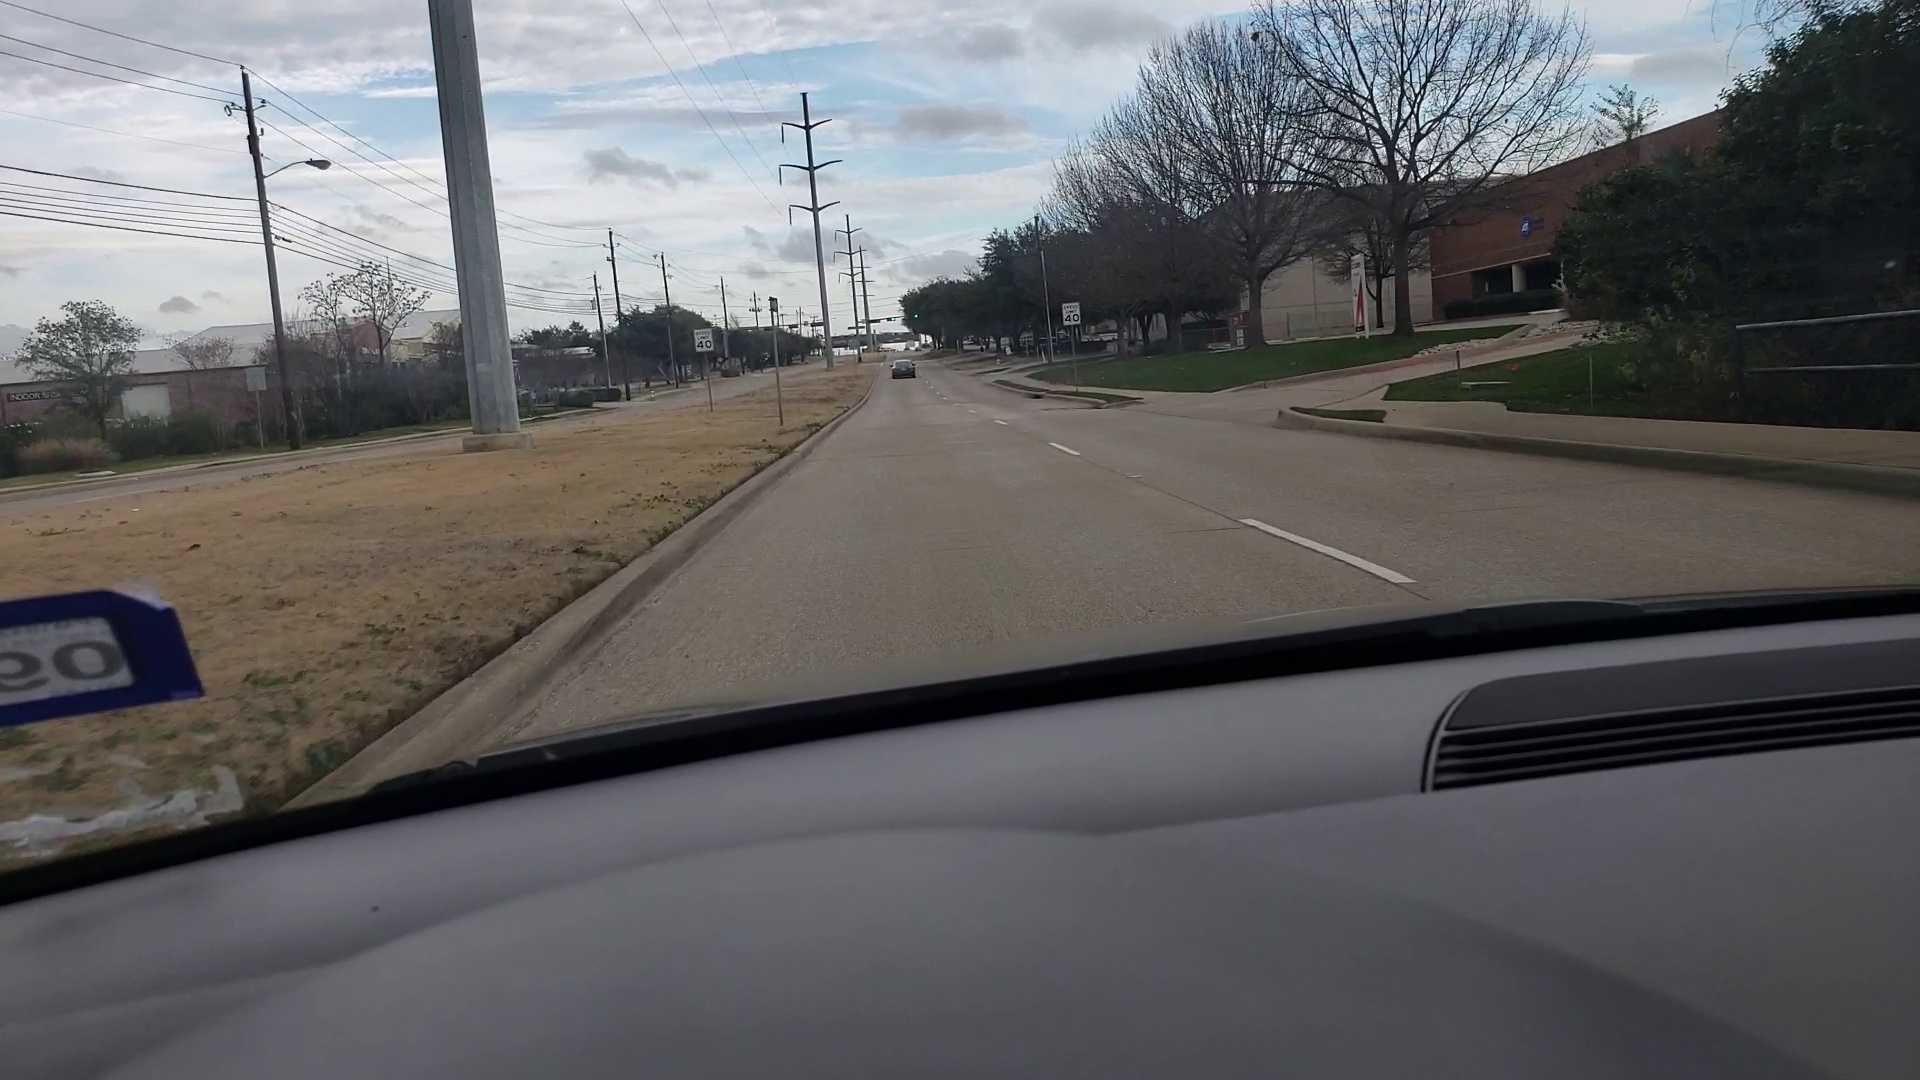car: (886, 357, 916, 380)
